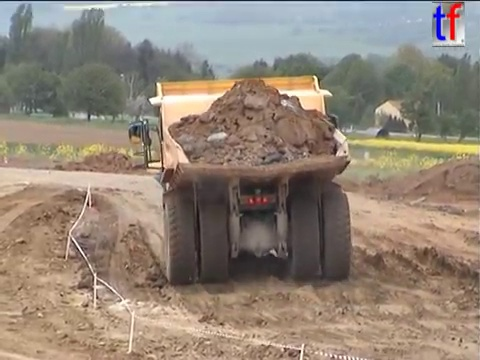truck: (125, 72, 354, 286)
